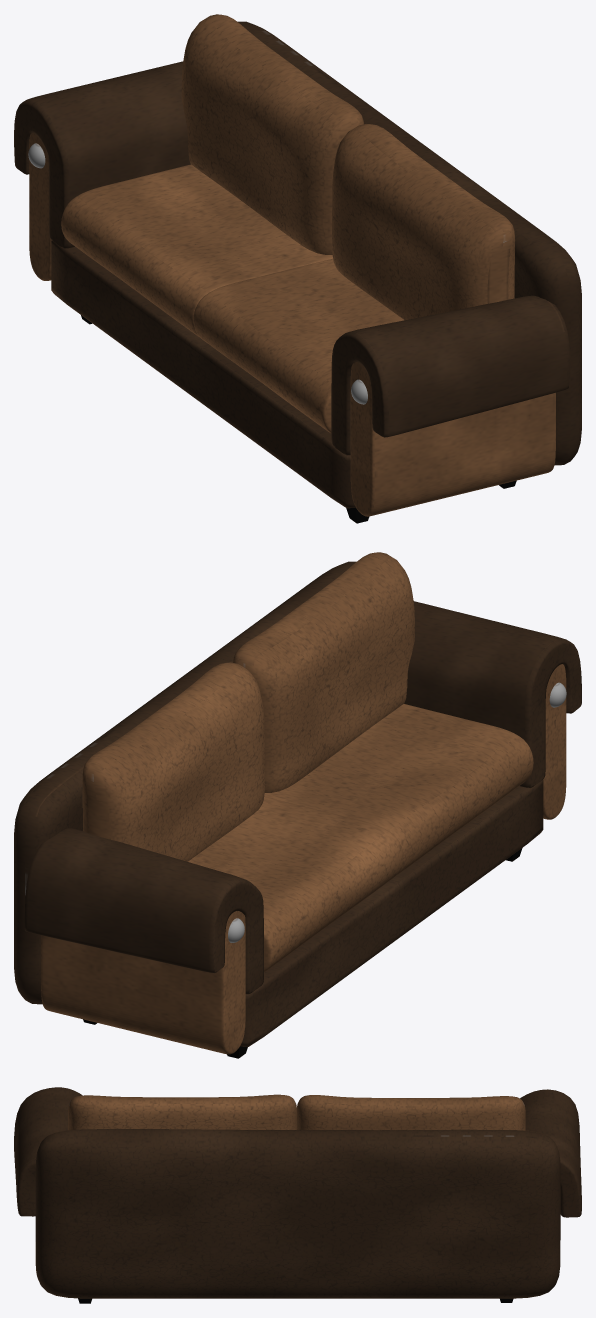
Rendered from couch.fbx.
3 views of the same model, one above another, from view 1: azimuth 30°, elevation 25°; view 2: azimuth 150°, elevation 25°; view 3: azimuth 270°, elevation 25° (orthographic). The views are drawn at different scales.
Visible parts, largest first — view 1: Plane.004; view 2: Plane.004; view 3: Plane.004.
Boxes of the visible parts, left/top/right/bottom form: Plane.004: left=14, top=14, right=581, bottom=523; Plane.004: left=14, top=552, right=581, bottom=1058; Plane.004: left=14, top=1087, right=581, bottom=1303.
Bounding box in the file's own units: 567 × 626 × 1584.
Materials: 1 (1 with a texture image).
